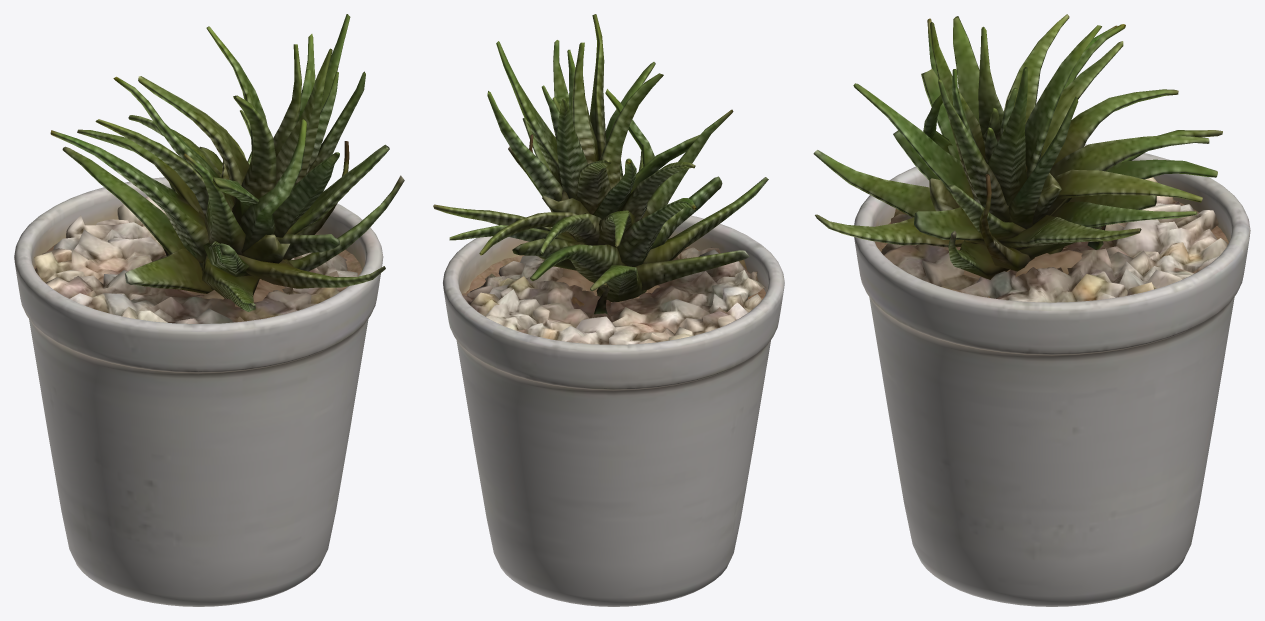
File: potted_plant_04.glb
3 views of the same model, side by side, from view 1: azimuth 30°, elevation 25°; view 2: azimuth 150°, elevation 25°; view 3: azimuth 270°, elevation 25° (orthographic). The views are drawn at different scales.
Parts seen in each view (by area): view 1: potted_plant_04_pot, potted_plant_04_plant, potted_plant_04_ground, potted_plant_04_dirt; view 2: potted_plant_04_pot, potted_plant_04_plant, potted_plant_04_ground, potted_plant_04_dirt; view 3: potted_plant_04_pot, potted_plant_04_plant, potted_plant_04_ground, potted_plant_04_dirt.
Boxes of the visible parts, <box> form: potted_plant_04_pot: <box>14,177,383,606</box>; potted_plant_04_plant: <box>50,14,404,311</box>; potted_plant_04_ground: <box>34,196,357,323</box>; potted_plant_04_dirt: <box>34,238,362,307</box>; potted_plant_04_pot: <box>443,215,784,606</box>; potted_plant_04_plant: <box>433,14,768,314</box>; potted_plant_04_ground: <box>463,247,765,344</box>; potted_plant_04_dirt: <box>462,247,765,306</box>; potted_plant_04_pot: <box>854,144,1250,606</box>; potted_plant_04_plant: <box>813,14,1222,279</box>; potted_plant_04_ground: <box>881,177,1227,302</box>; potted_plant_04_dirt: <box>875,200,1228,297</box>.
Bounding box in the file's own units: 0.1679 × 0.2675 × 0.1848.
Materials: 1 (1 with a texture image).
